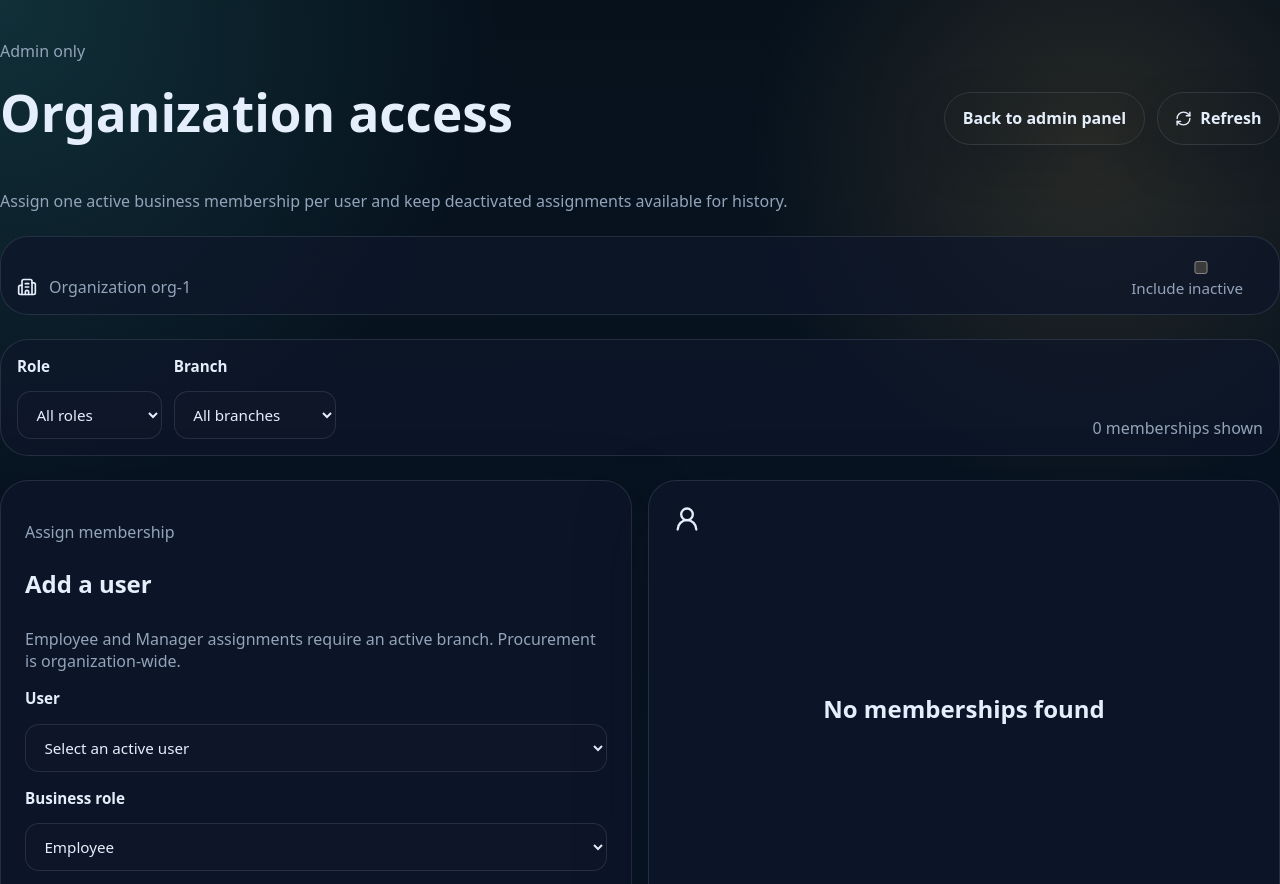
OrganizationMemberships page › assigns a Manager to a selected branch
Expected: the heading "No memberships found" is shown, top-left (823, 692), bottom-right (1105, 725)
Select "Alex Employee - employee@example.com" in the dropdown labelled "User" at (316, 748), box top-left (25, 724), bottom-right (607, 772)
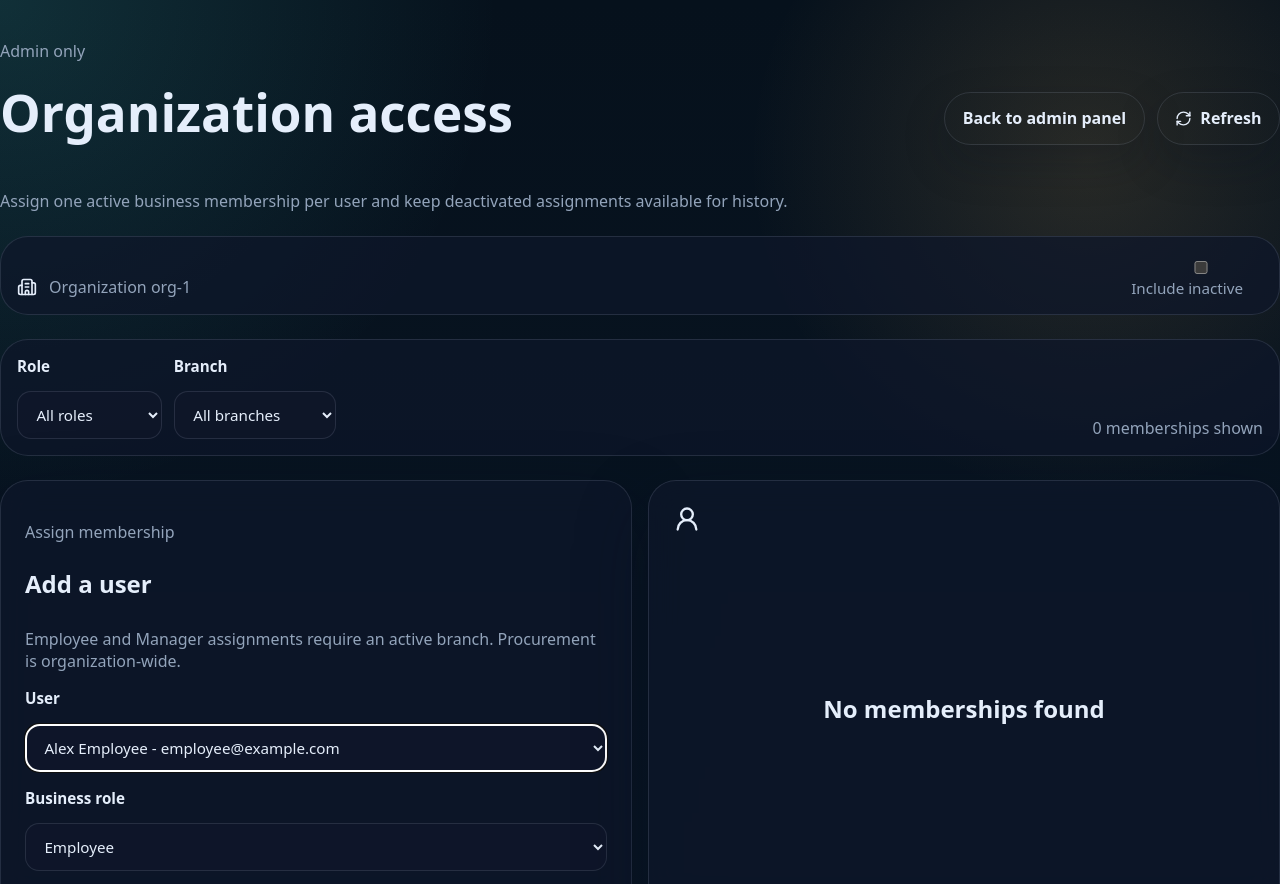
Select "Manager" in the dropdown labelled "Business role" at (316, 847), box top-left (25, 823), bottom-right (607, 871)
(page scrolled)
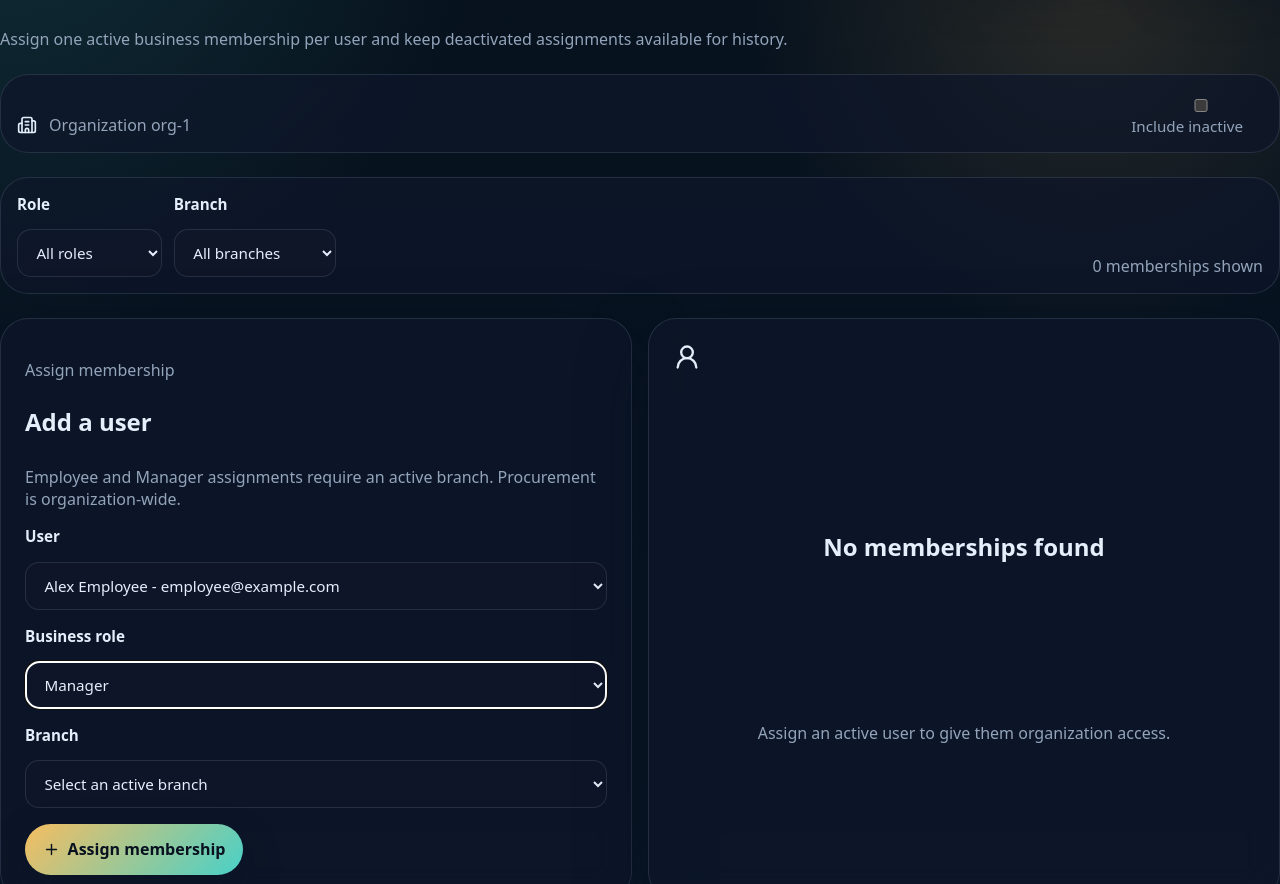
Select "Warsaw branch (WAW)" in the dropdown labelled "Branch" below "Business role" at (316, 784), box top-left (25, 760), bottom-right (607, 808)
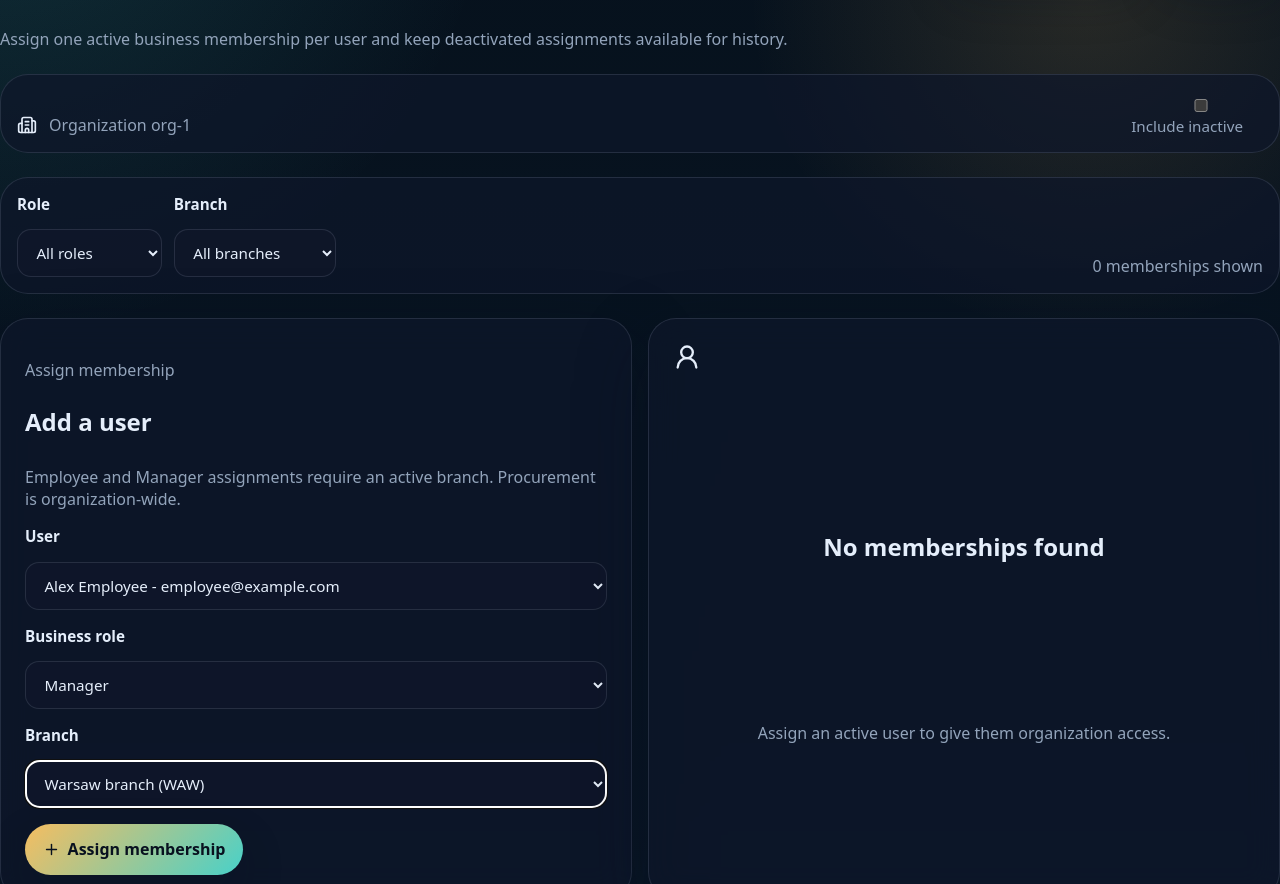
Click the button "Assign membership" at (134, 849), box top-left (25, 824), bottom-right (243, 875)
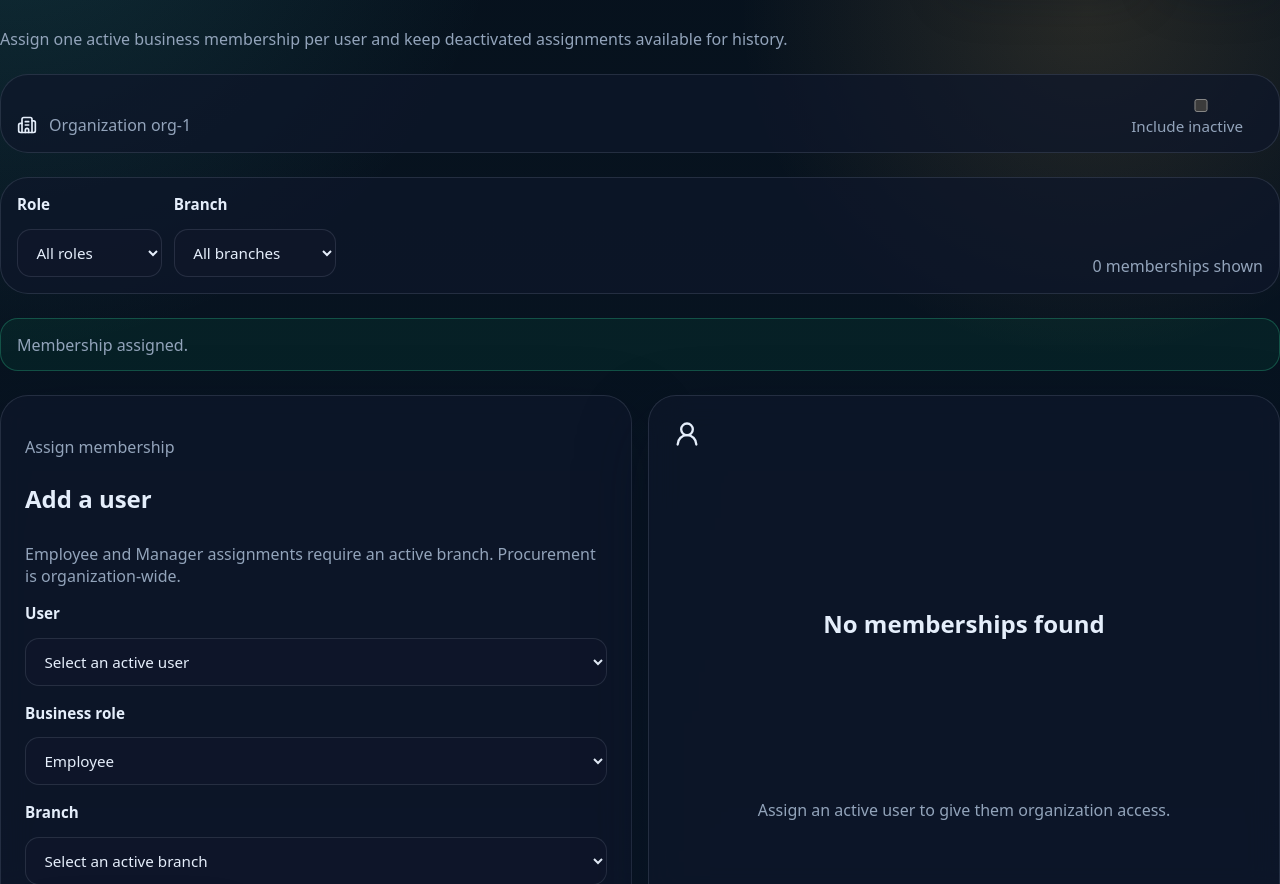
Now the text "Membership assigned." is shown, box top-left (0, 318), bottom-right (1279, 371)
